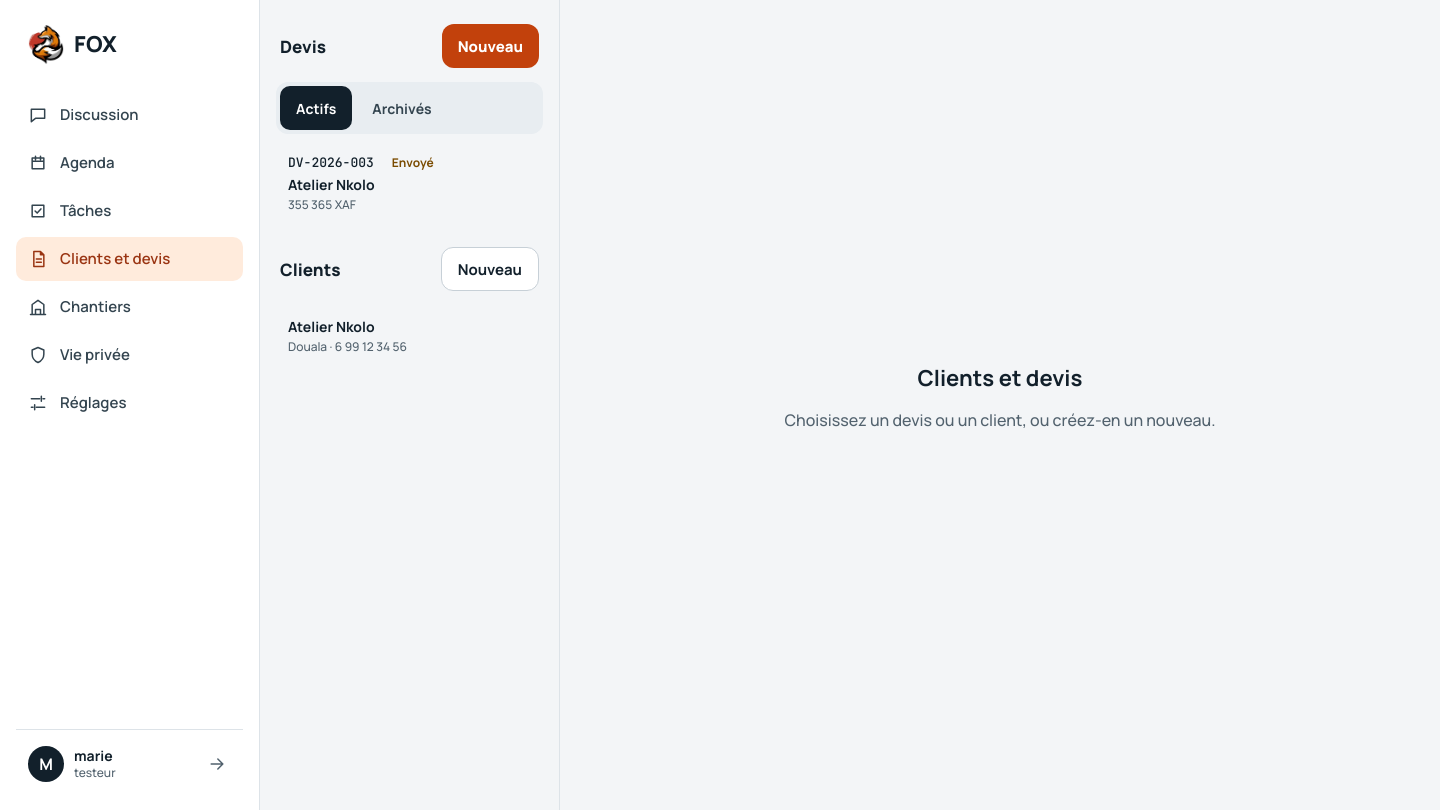
it: Clients et devis › explique pourquoi un devis envoyé ne peut pas être supprimé
Click the button "DV-2026-003 Envoyé Atelier Nkolo 355 365 XAF".
click(331, 162)  # box top-left (276, 140), bottom-right (543, 225)
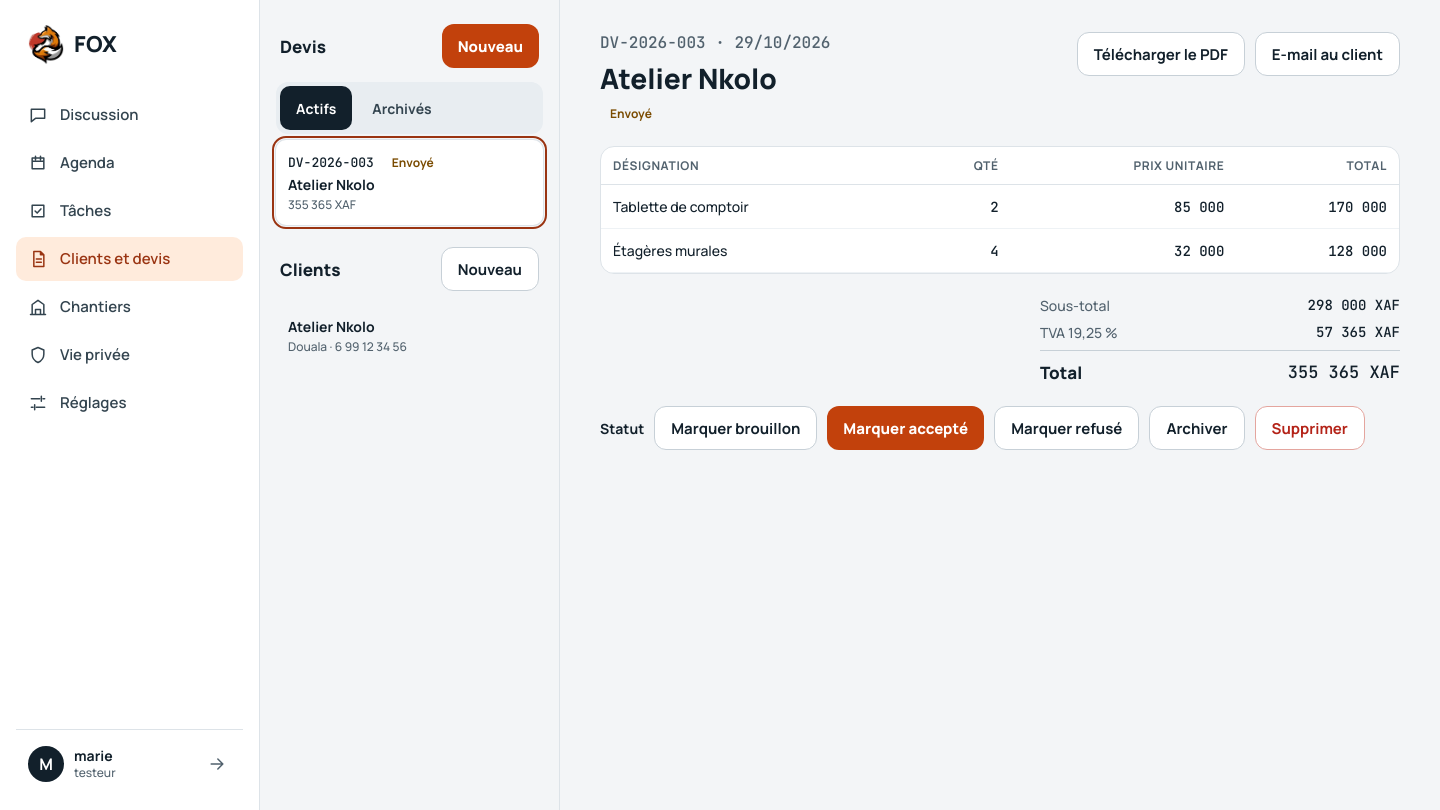
Click the button "Supprimer".
click(1310, 428)  # box top-left (1254, 406), bottom-right (1365, 450)
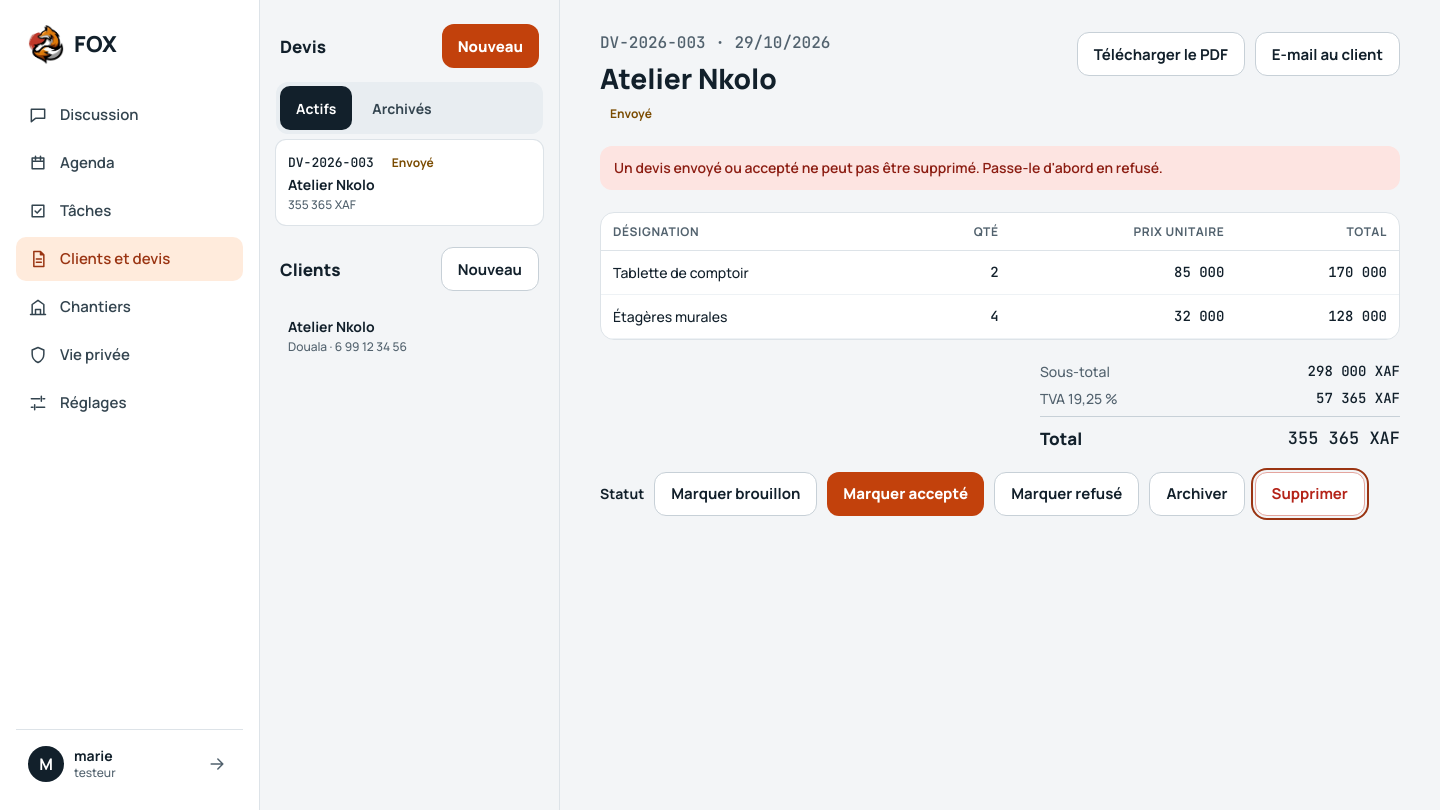
Now the message shows "ne peut pas être supprimé", box top-left (614, 158), bottom-right (1163, 177)
